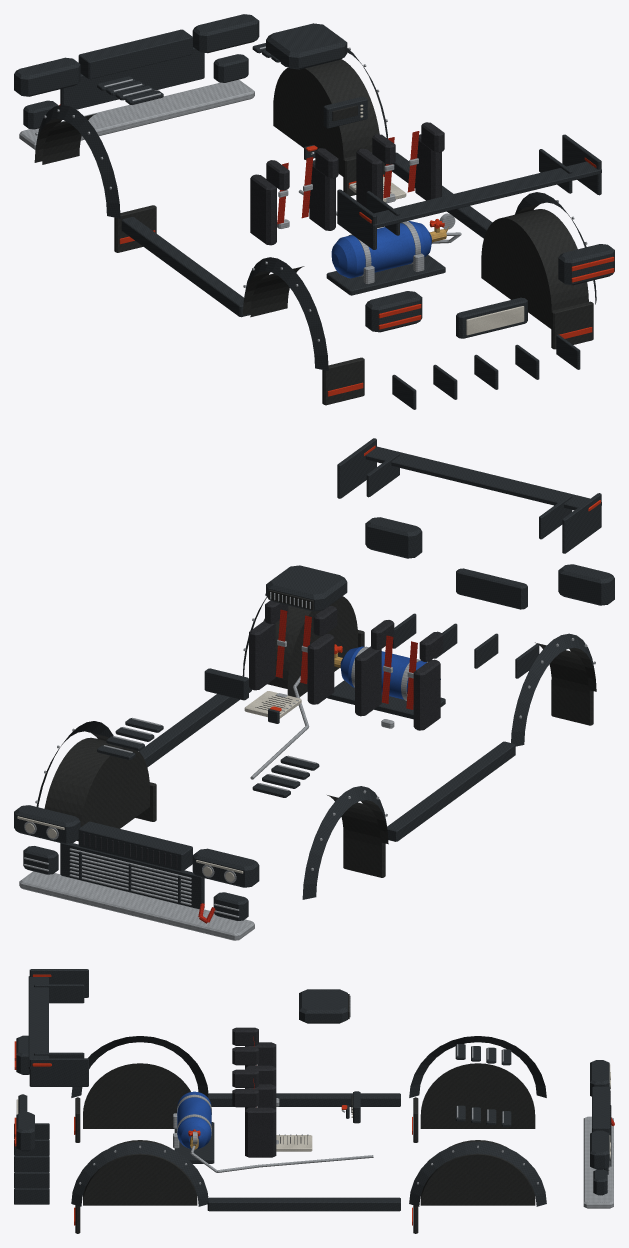
The model's file is rally-kit.glb.
3 renders of one model, top to bottom at view 1: azimuth 30°, elevation 25°; view 2: azimuth 150°, elevation 25°; view 3: azimuth 270°, elevation 25°, orthographic. The views are drawn at different scales.
Visible parts, largest first — view 1: StageExterior, StageCabin; view 2: StageExterior, StageCabin; view 3: StageExterior, StageCabin.
Boxes of the visible parts, x1,y1,x2,y2 form: StageExterior: [14, 14, 614, 409]; StageCabin: [250, 96, 461, 295]; StageExterior: [14, 438, 614, 940]; StageCabin: [204, 600, 445, 779]; StageExterior: [14, 969, 614, 1233]; StageCabin: [173, 1027, 373, 1172].
Bounding box in the file's own units: 1.99 × 1.51 × 4.54.
Materials: 9 (9 with a texture image).
